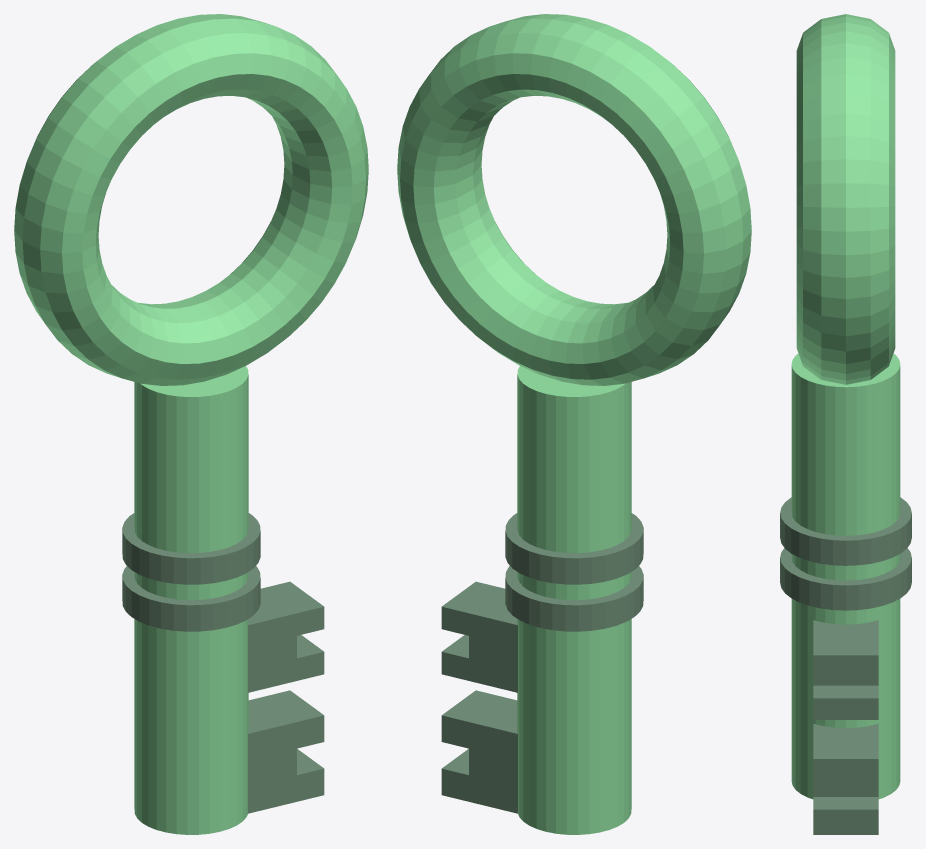
The model's file is Key1.fbx.
The picture shows the model from 3 angles, left to right: view 1: azimuth 30°, elevation 25°; view 2: azimuth 150°, elevation 25°; view 3: azimuth 270°, elevation 25°; orthographic projection. The views are drawn at different scales.
Parts seen in each view (by area): view 1: Torus.016, Keypart1, Keypart6, Keypart5, Keypart3, Keypart4; view 2: Torus.016, Keypart1, Keypart6, Keypart5, Keypart3, Keypart4; view 3: Torus.016, Keypart1, Keypart6, Keypart5, Keypart3, Keypart4.
Boxes of the visible parts, x1=… form: Torus.016: x1=14, y1=14, x2=368, y2=385; Keypart1: x1=134, y1=366, x2=248, y2=834; Keypart6: x1=248, y1=690, x2=324, y2=813; Keypart5: x1=248, y1=581, x2=324, y2=692; Keypart3: x1=122, y1=513, x2=260, y2=584; Keypart4: x1=122, y1=566, x2=260, y2=631; Torus.016: x1=397, y1=14, x2=751, y2=385; Keypart1: x1=517, y1=366, x2=631, y2=834; Keypart6: x1=441, y1=690, x2=517, y2=813; Keypart5: x1=441, y1=581, x2=517, y2=692; Keypart3: x1=505, y1=513, x2=643, y2=584; Keypart4: x1=505, y1=566, x2=643, y2=631; Torus.016: x1=796, y1=14, x2=895, y2=384; Keypart1: x1=791, y1=353, x2=900, y2=799; Keypart6: x1=813, y1=723, x2=878, y2=834; Keypart5: x1=813, y1=620, x2=878, y2=719; Keypart3: x1=780, y1=497, x2=911, y2=565; Keypart4: x1=780, y1=548, x2=911, y2=610.
Bounding box in the file's own units: 53.14 × 118 × 18.86.
